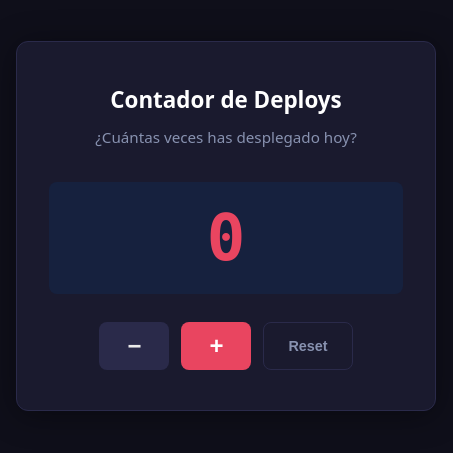
it: Counter component › incrementa el contador al hacer click en el botón +
Click the button with test id "increment-button".
click(216, 346)  # box [181,322,251,370]
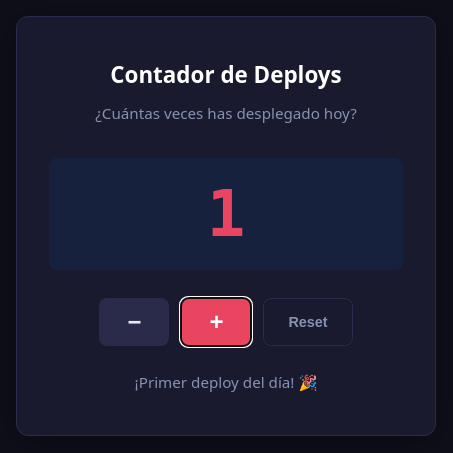
Expected: the text with test id "counter-value" reads "1", [207,176,245,250]
